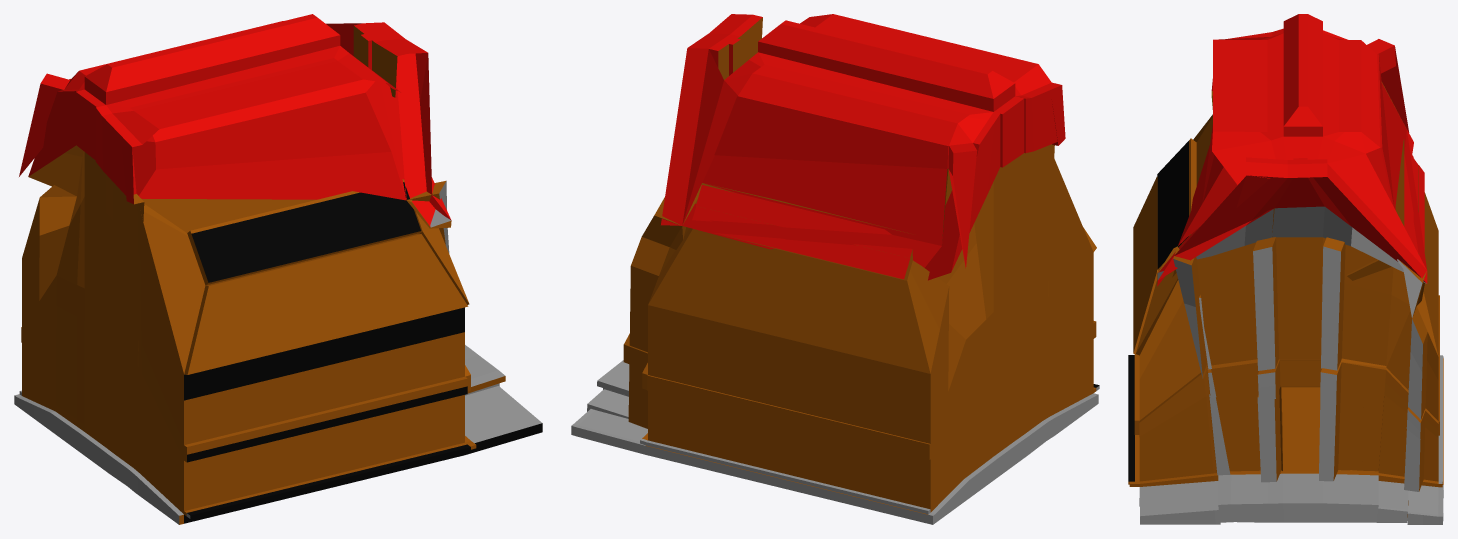
Rendered from szopa.fbx.
3 views of the same model, side by side, from view 1: azimuth 30°, elevation 25°; view 2: azimuth 150°, elevation 25°; view 3: azimuth 270°, elevation 25° (orthographic). The views are drawn at different scales.
Visible parts, largest first — view 1: Cube; view 2: Cube; view 3: Cube.
Part boxes in pixels (box(x1,y1,x2,y2)): Cube: box(14, 14, 542, 524); Cube: box(571, 14, 1099, 524); Cube: box(1128, 14, 1443, 524).
Size of the model in its own units: 1514 by 1469 by 1168.
